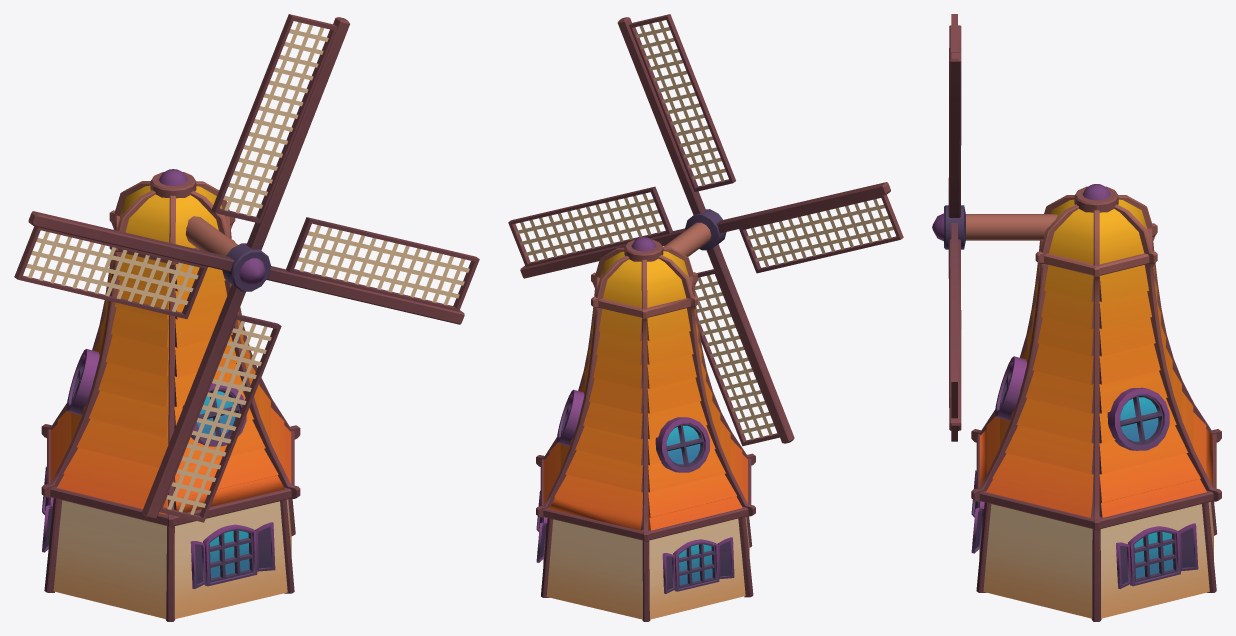
The model's file is Windmill.obj.
3 views of the same model, side by side, from view 1: azimuth 30°, elevation 25°; view 2: azimuth 150°, elevation 25°; view 3: azimuth 270°, elevation 25° (orthographic). The views are drawn at different scales.
Visible parts, largest first — view 1: {mesh}Windmill_Cube.006; view 2: {mesh}Windmill_Cube.006; view 3: {mesh}Windmill_Cube.006.
Part boxes in pixels (left/top/right/bottom): {mesh}Windmill_Cube.006: left=14, top=14, right=479, bottom=621; {mesh}Windmill_Cube.006: left=508, top=14, right=903, bottom=621; {mesh}Windmill_Cube.006: left=932, top=14, right=1221, bottom=621.
Size of the model in its own units: 539 by 659 by 302.
